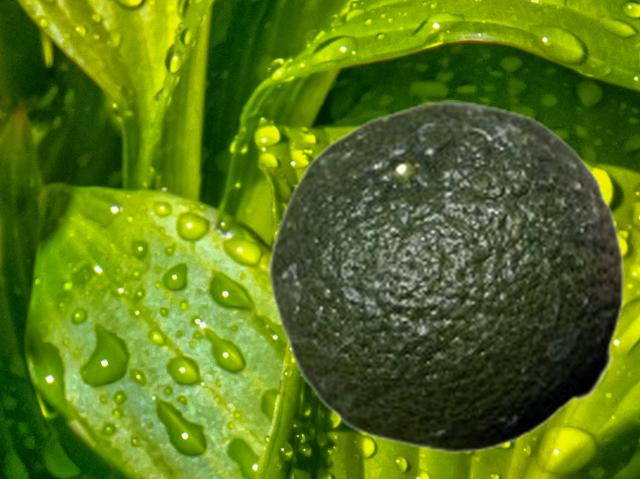calamansi: (268, 100, 624, 452)
